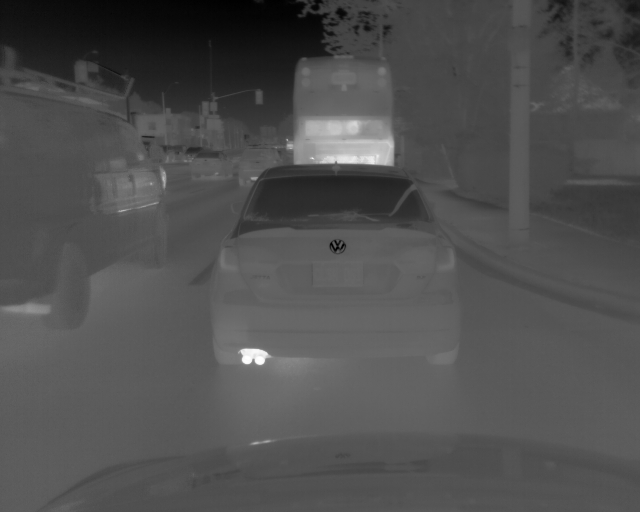car: (211, 164, 460, 369), (1, 89, 169, 328), (292, 55, 394, 165), (238, 147, 281, 185), (190, 150, 230, 184), (143, 135, 168, 162), (167, 144, 183, 164), (183, 145, 198, 162), (283, 135, 293, 151)
